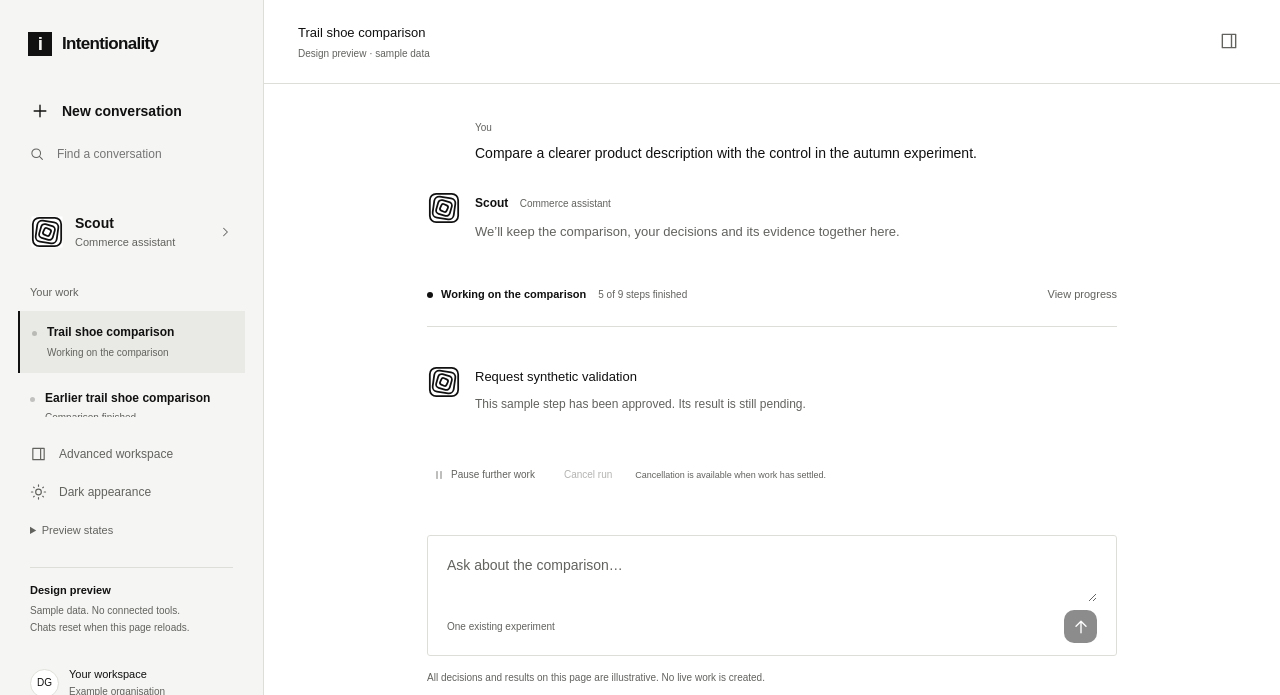
Test: sample workspace interaction boundaries › keeps a started step pending across pause, then resumes with fresh approval required
This screenshot has width=1280, height=695.
Click the heading "Preview states" at (77, 530), box left=42, top=524, right=113, bottom=536
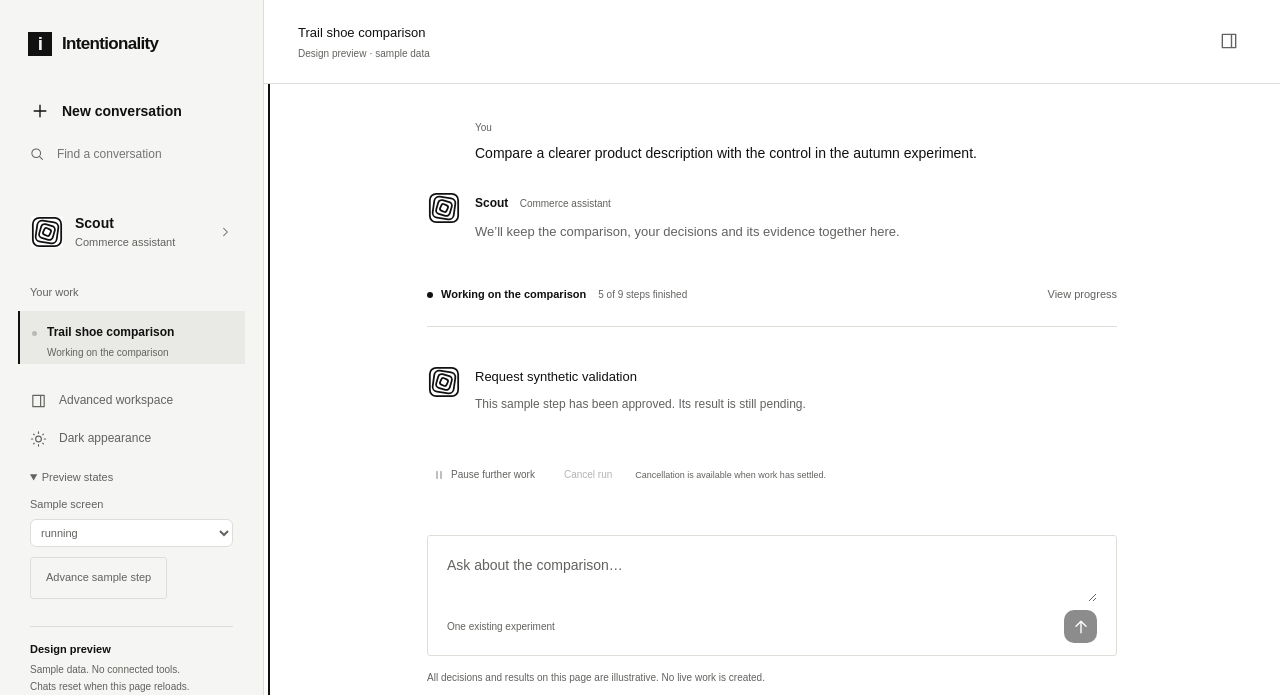
Click the button "Pause further work" at (484, 475), box left=427, top=466, right=541, bottom=484
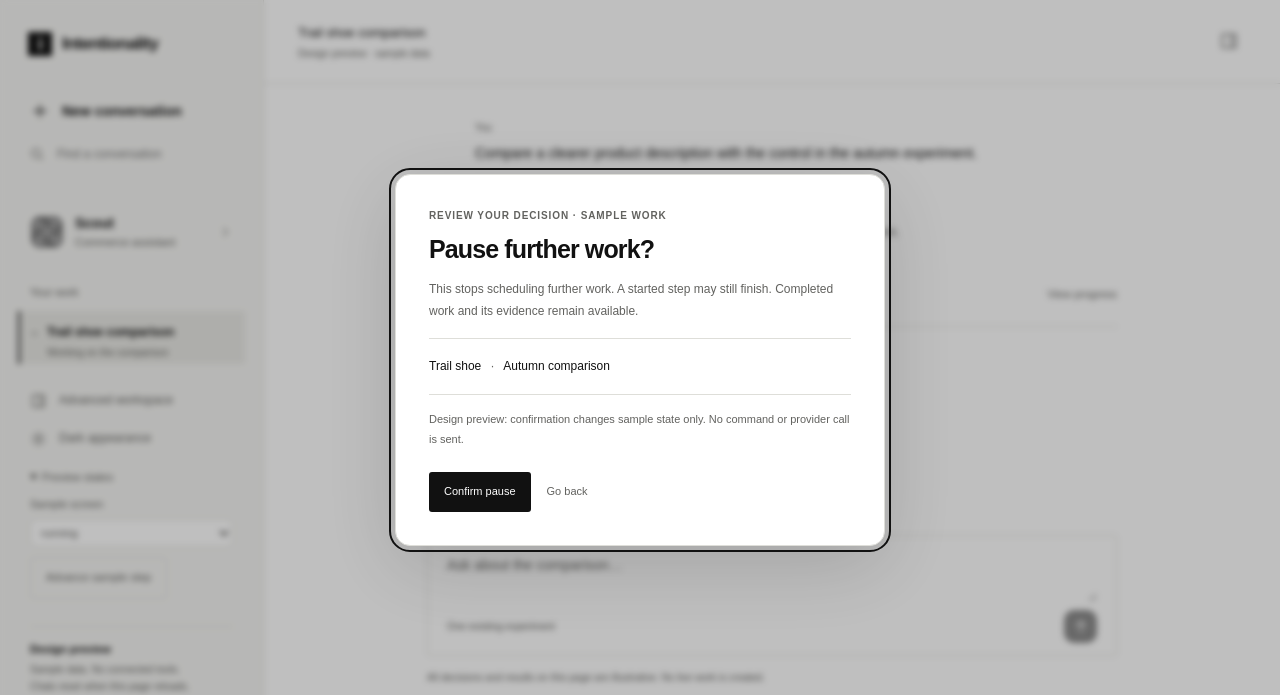
Click the button "Confirm pause" at (480, 492), box left=429, top=472, right=530, bottom=512
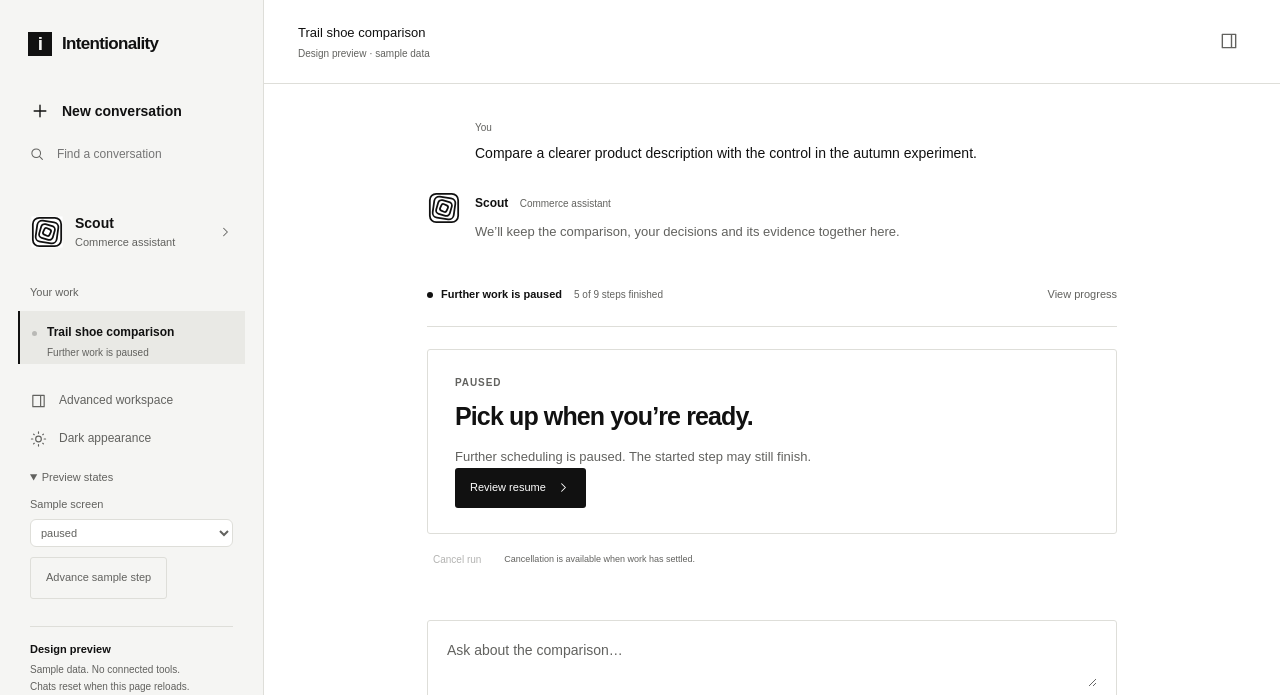
Expected: the button "Cancel run" is disabled, left=427, top=551, right=487, bottom=569
Expected: the text "started step may still finish" is shown, left=455, top=449, right=811, bottom=464
Click the button "Advance sample step" at (99, 578), box left=30, top=557, right=167, bottom=598
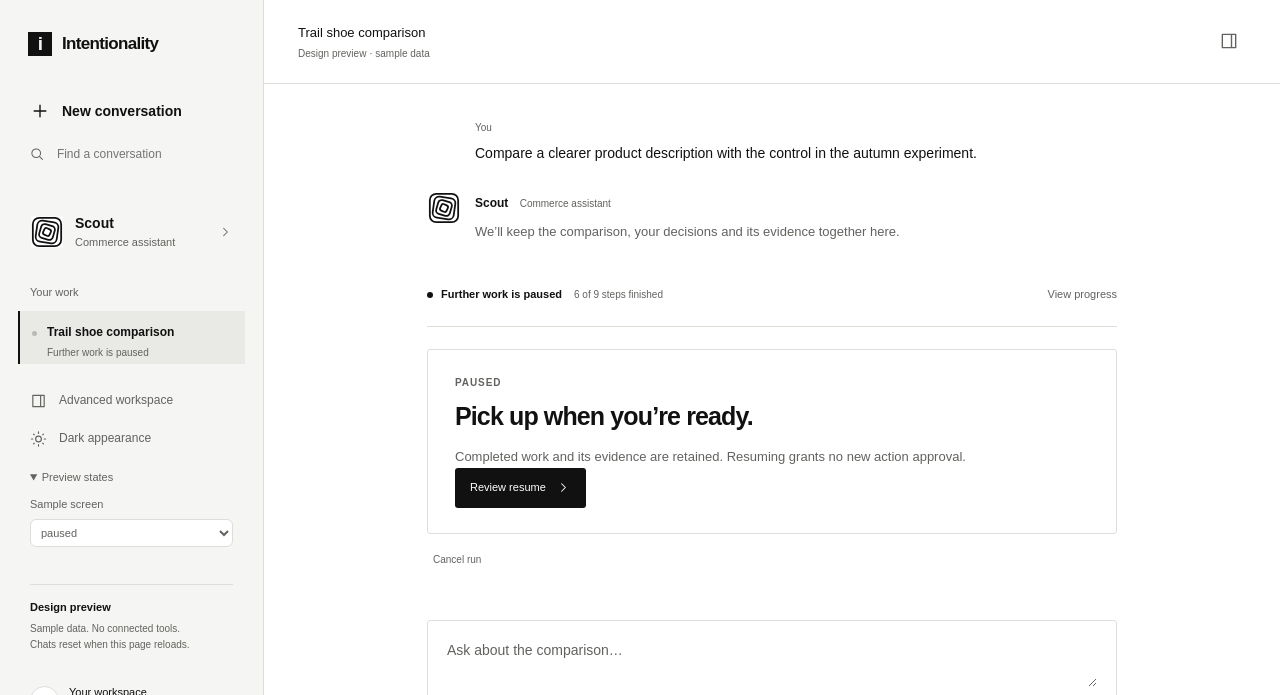
Expected: the text "6 of 9 steps finished" is shown, left=574, top=287, right=663, bottom=303
Expected: the button "Cancel run" is enabled, left=427, top=551, right=487, bottom=569
Click the button "Review resume" at (520, 488), box left=455, top=468, right=586, bottom=508
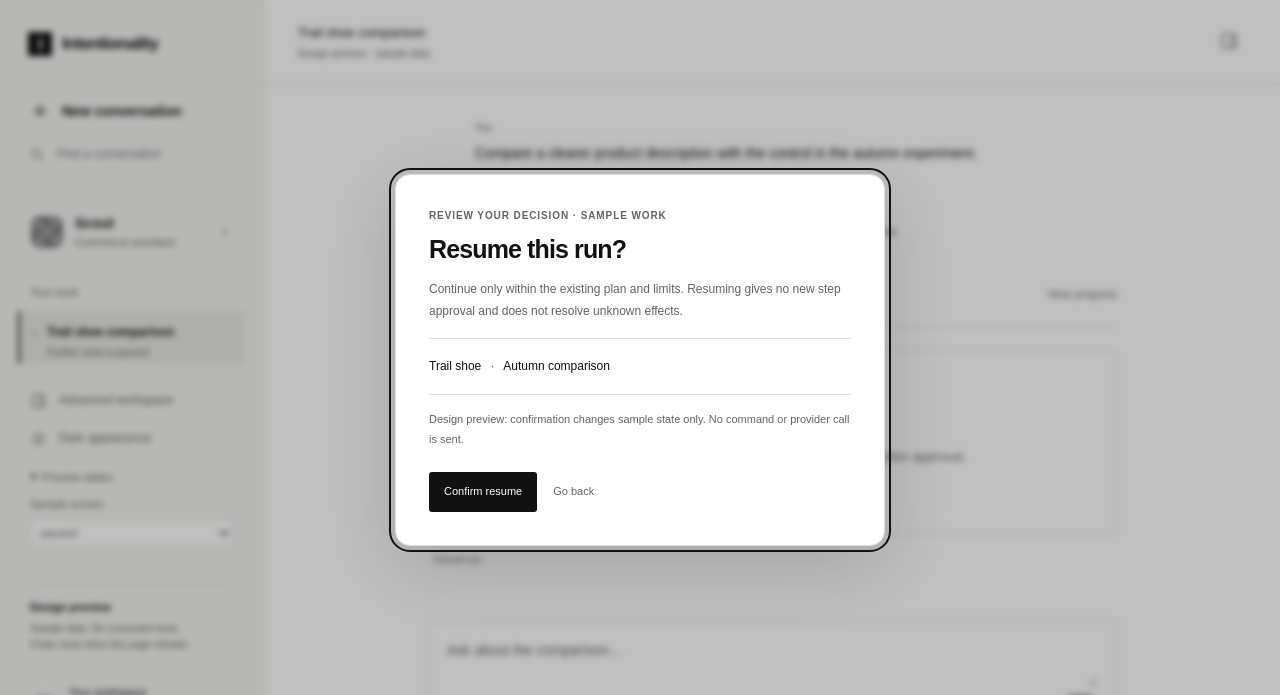
Click the button "Confirm resume" at (483, 492), box left=429, top=472, right=537, bottom=512
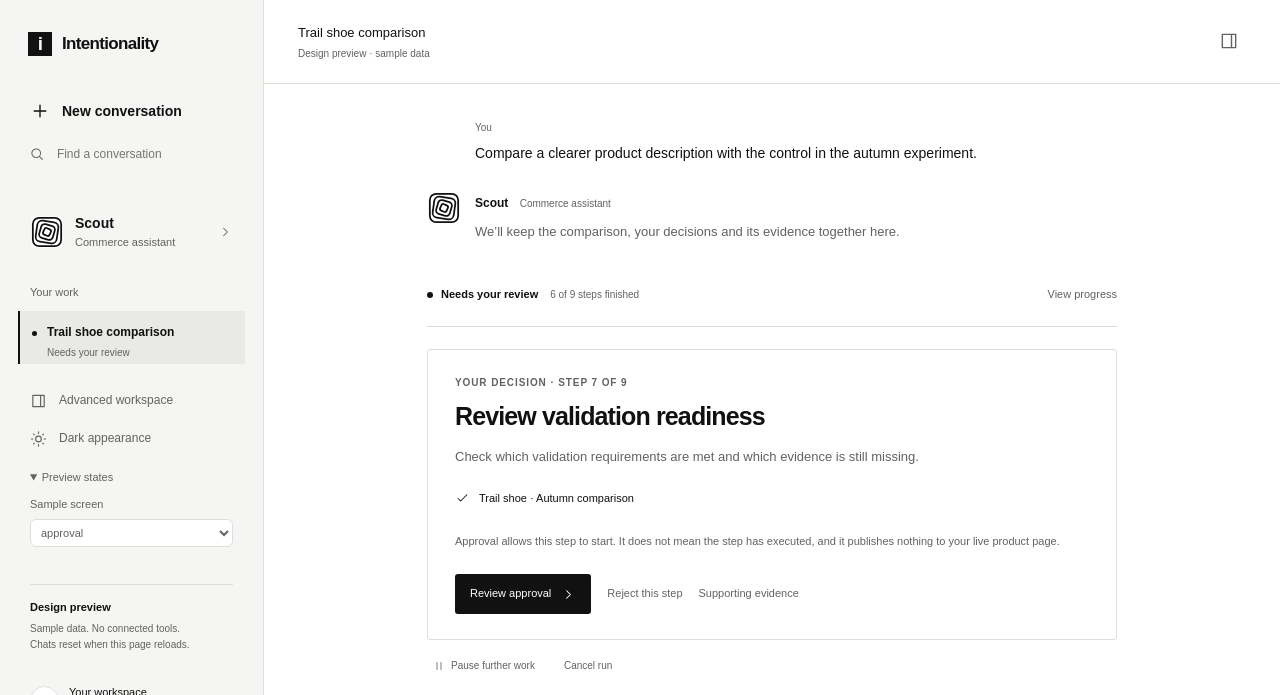
Expected: the button "Advance sample step" is not shown
Expected: the button "Review approval" is shown, left=455, top=574, right=591, bottom=614
